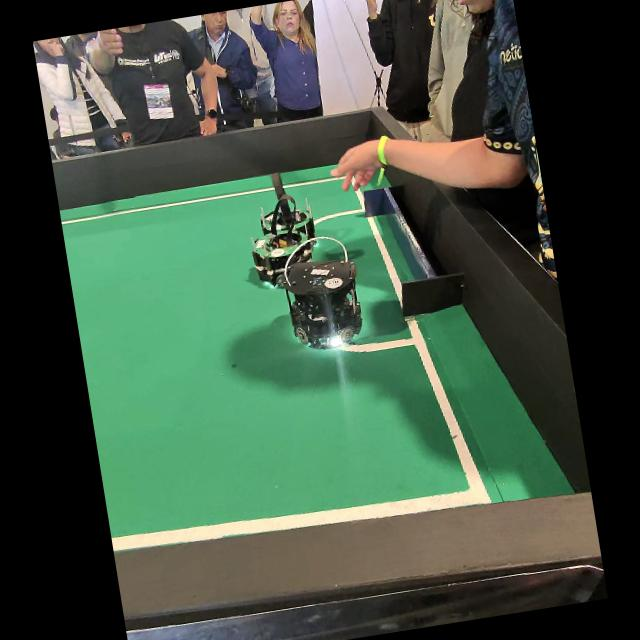goal: (362, 188, 463, 317)
robot: (282, 236, 361, 349), (250, 194, 307, 290), (258, 172, 318, 239)
